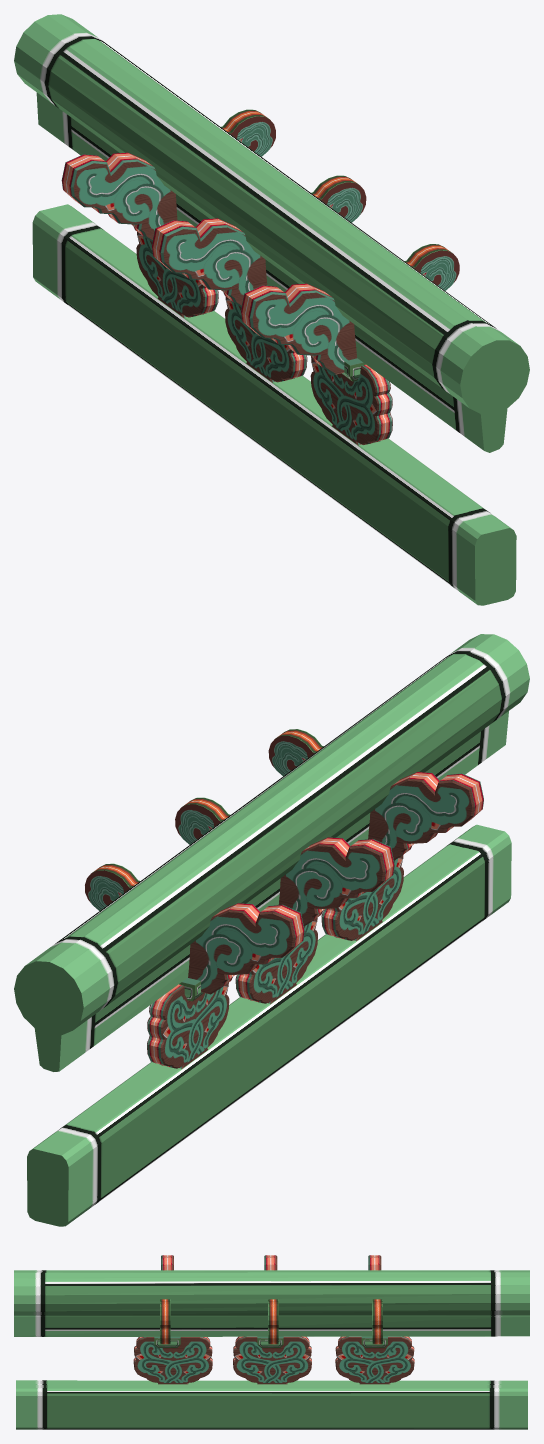
Rendered from SM_R_Dancheong_18.fbx.
3 renders of one model, top to bottom at view 1: azimuth 30°, elevation 25°; view 2: azimuth 150°, elevation 25°; view 3: azimuth 270°, elevation 25°, orthographic. The views are drawn at different scales.
Visible parts, largest first — view 1: SM_R_Dancheong_18; view 2: SM_R_Dancheong_18; view 3: SM_R_Dancheong_18.
Part boxes in pixels (left/top/right/bottom): SM_R_Dancheong_18: left=14, top=14, right=529, bottom=605; SM_R_Dancheong_18: left=14, top=634, right=529, bottom=1226; SM_R_Dancheong_18: left=14, top=1255, right=529, bottom=1429.
Size of the model in its own units: 103 by 381 by 125.
5 materials, 5 textured.
